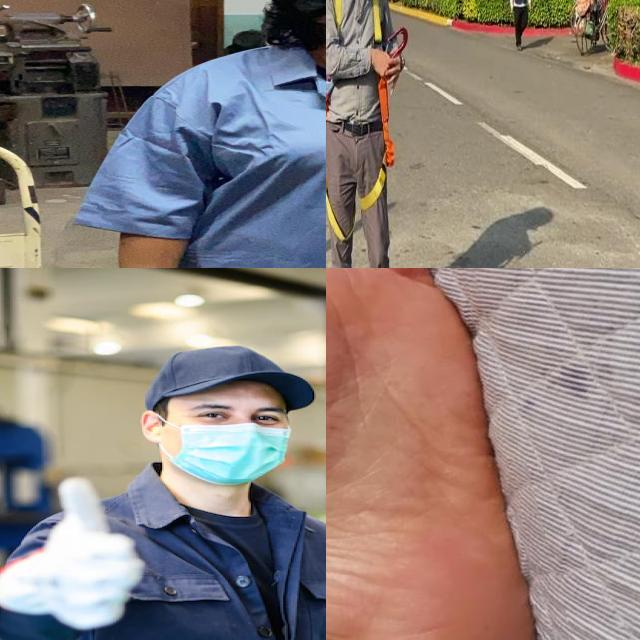Barefoots: (326, 268, 535, 640)
Harness: (360, 78, 396, 212), (326, 174, 348, 242)
No_Ear-Protection: (135, 412, 170, 442)
No_Glasses: (185, 403, 290, 434)
face_mask: (160, 416, 291, 485)
hand_glove: (0, 476, 143, 630)
head_nohelmet: (145, 346, 314, 410)
person: (79, 0, 326, 268)
